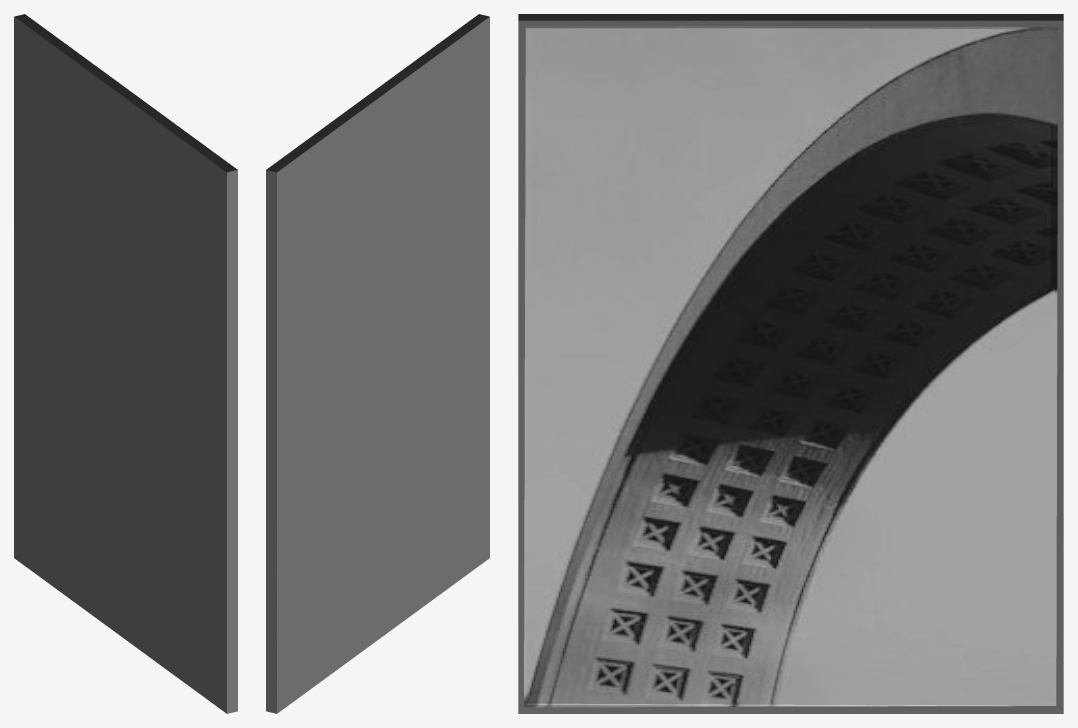
File: WallPainting0022.obj
3 views of the same model, side by side, from view 1: azimuth 30°, elevation 25°; view 2: azimuth 150°, elevation 25°; view 3: azimuth 270°, elevation 25° (orthographic). The views are drawn at different scales.
Size of the model in its own units: 0.02 by 0.954 by 0.68.
1 material, 1 textured.
